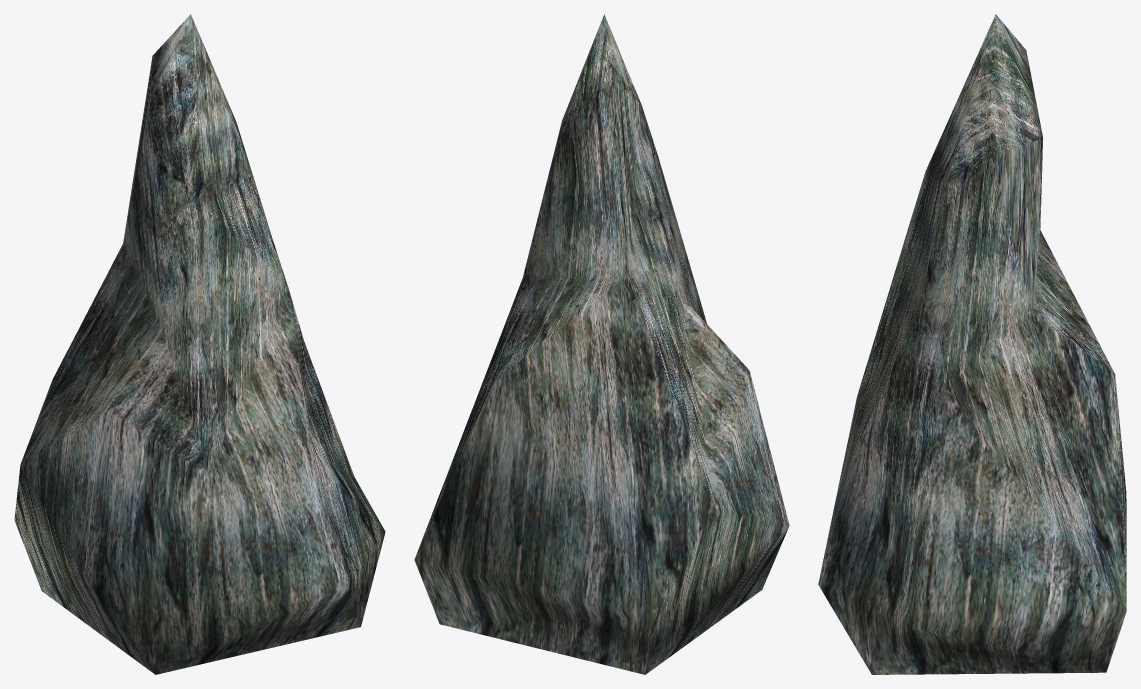
The model's file is rock_dath_desertcanyon_md_a1_l2.fbx.
3 views of the same model, side by side, from view 1: azimuth 30°, elevation 25°; view 2: azimuth 150°, elevation 25°; view 3: azimuth 270°, elevation 25° (orthographic).
Parts seen in each view (by area): view 1: mesh_node; view 2: mesh_node; view 3: mesh_node.
Part boxes in pixels (box(x1,y1,x2,y2)): mesh_node: box(14, 14, 385, 674); mesh_node: box(414, 14, 789, 674); mesh_node: box(818, 14, 1126, 674).
Bounding box in the file's own units: 4.23 × 8.08 × 3.72.
